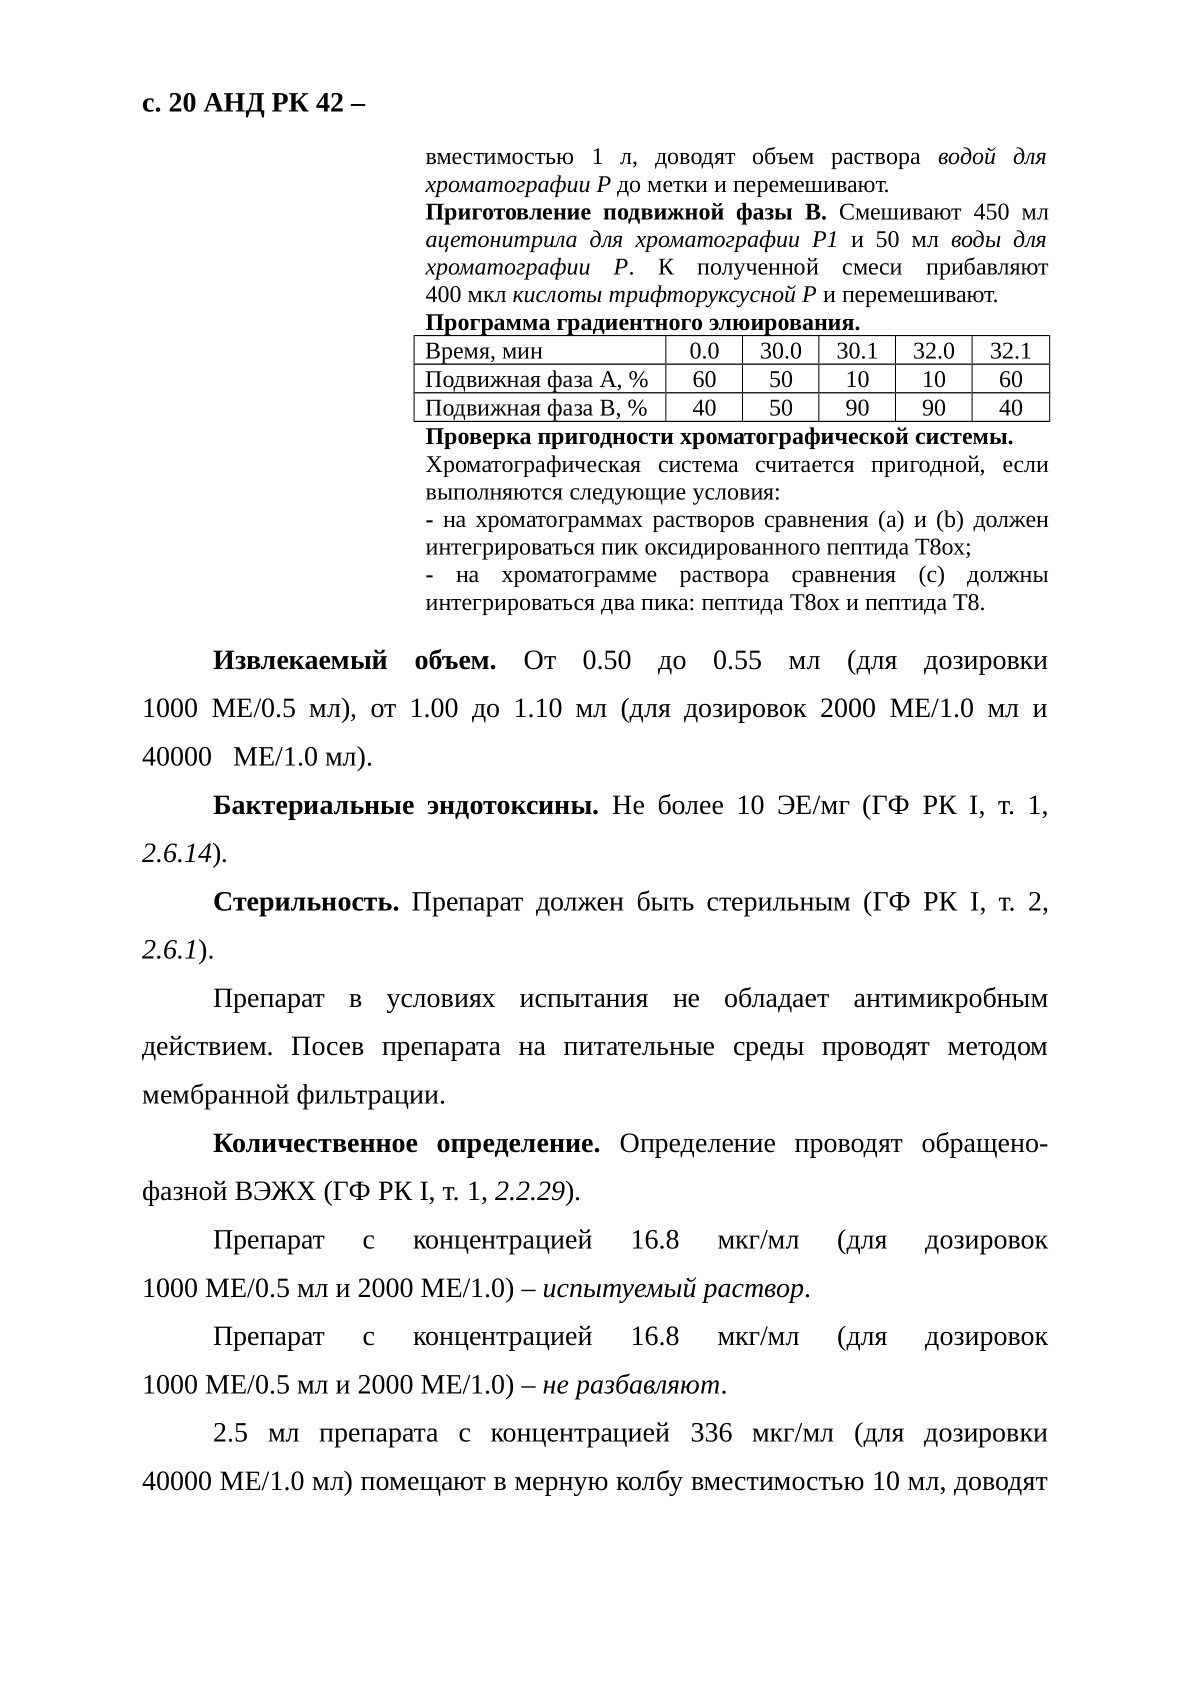full_lined: (413, 333, 1051, 422)
